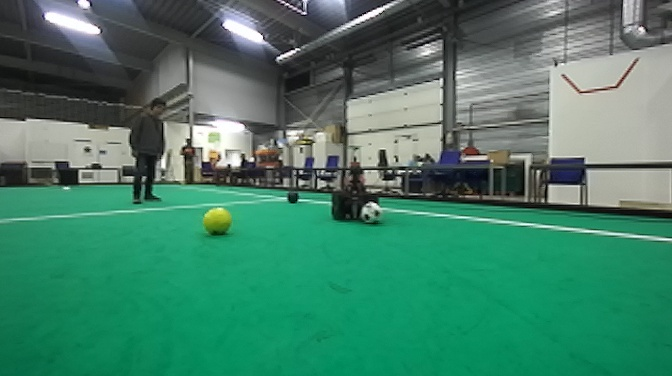ball: (200, 202, 237, 237), (360, 200, 383, 225), (285, 188, 302, 205)
human: (127, 96, 174, 208)
robot: (326, 142, 381, 224)
